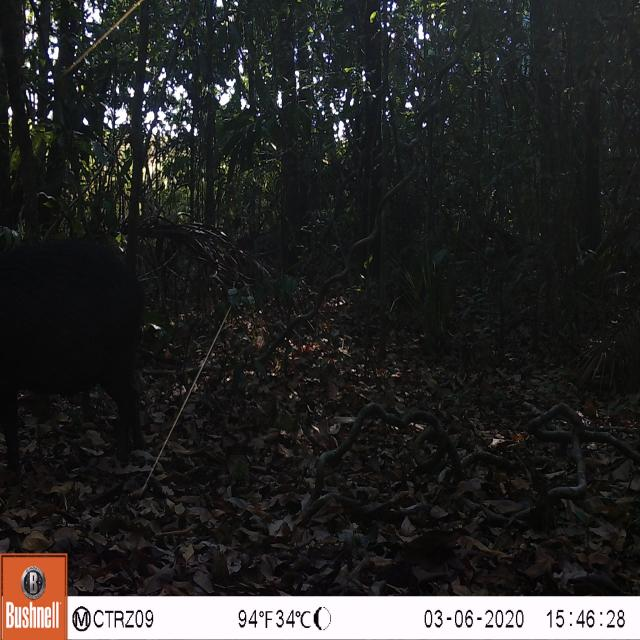Collared Peccary: (0, 186, 163, 505)
